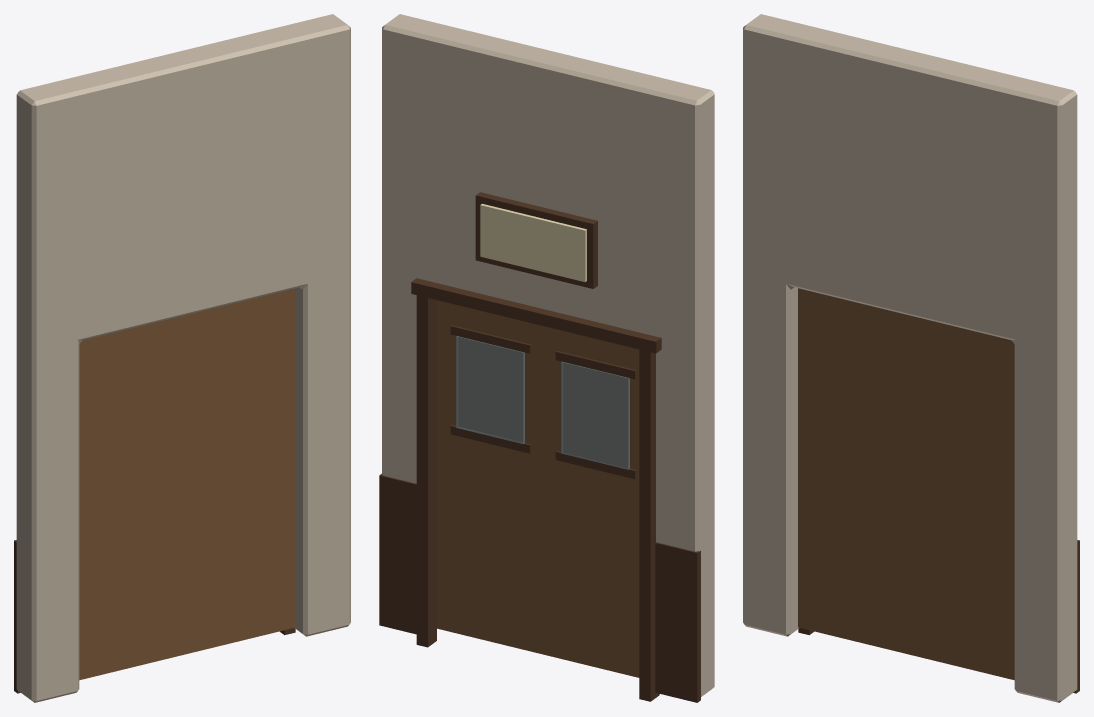
The model's file is SM_K_ClassroomDoor.obj.
The picture shows the model from 3 angles, left to right: view 1: azimuth 30°, elevation 25°; view 2: azimuth 150°, elevation 25°; view 3: azimuth 330°, elevation 25°; orthographic projection.
Visible parts, largest first — view 1: SM_K_ClassroomDoor; view 2: SM_K_ClassroomDoor; view 3: SM_K_ClassroomDoor.
Boxes of the visible parts, left/top/right/bottom form: SM_K_ClassroomDoor: left=14, top=14, right=350, bottom=702; SM_K_ClassroomDoor: left=379, top=14, right=714, bottom=702; SM_K_ClassroomDoor: left=743, top=14, right=1079, bottom=702.
Bounding box in the file's own units: 2 × 3.63 × 0.27.
